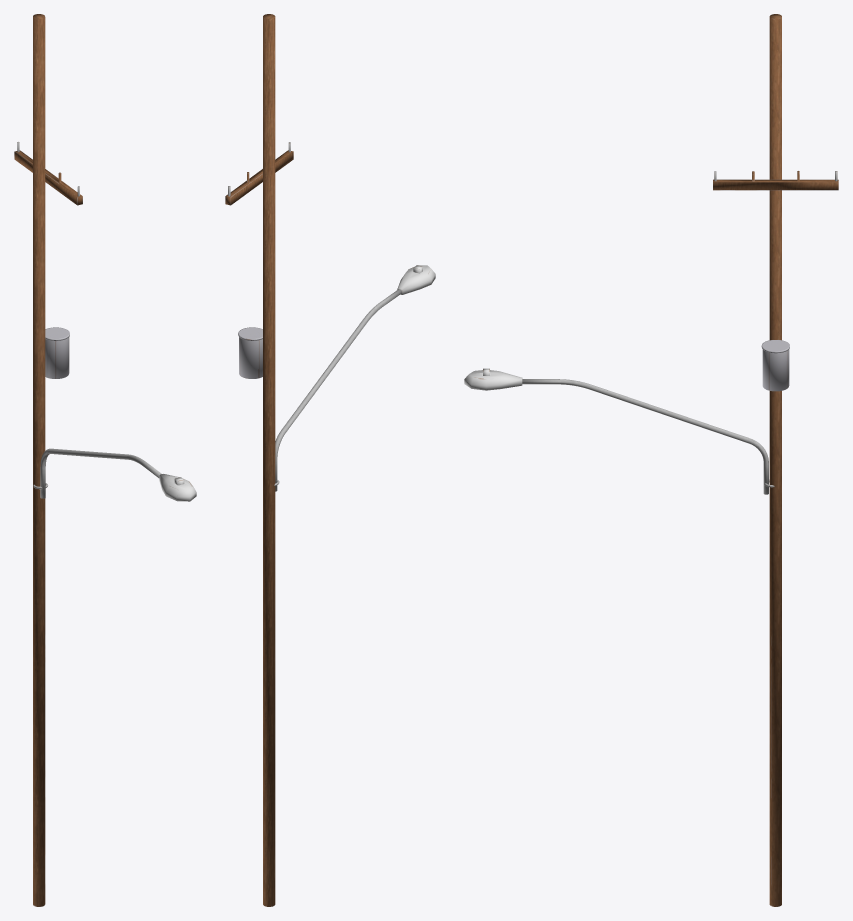
Rendered from Street Lamp 02.fbx.
The picture shows the model from 3 angles, left to right: view 1: azimuth 30°, elevation 25°; view 2: azimuth 150°, elevation 25°; view 3: azimuth 270°, elevation 25°; orthographic projection.
Parts seen in each view (by area): view 1: Street Lamp 02; view 2: Street Lamp 02; view 3: Street Lamp 02.
Part boxes in pixels (<box>): Street Lamp 02: <box>14,14,196,906</box>; Street Lamp 02: <box>225,14,435,906</box>; Street Lamp 02: <box>464,14,838,906</box>.
Size of the model in its own units: 60.78 by 1104 by 422.
1 material, 1 textured.
